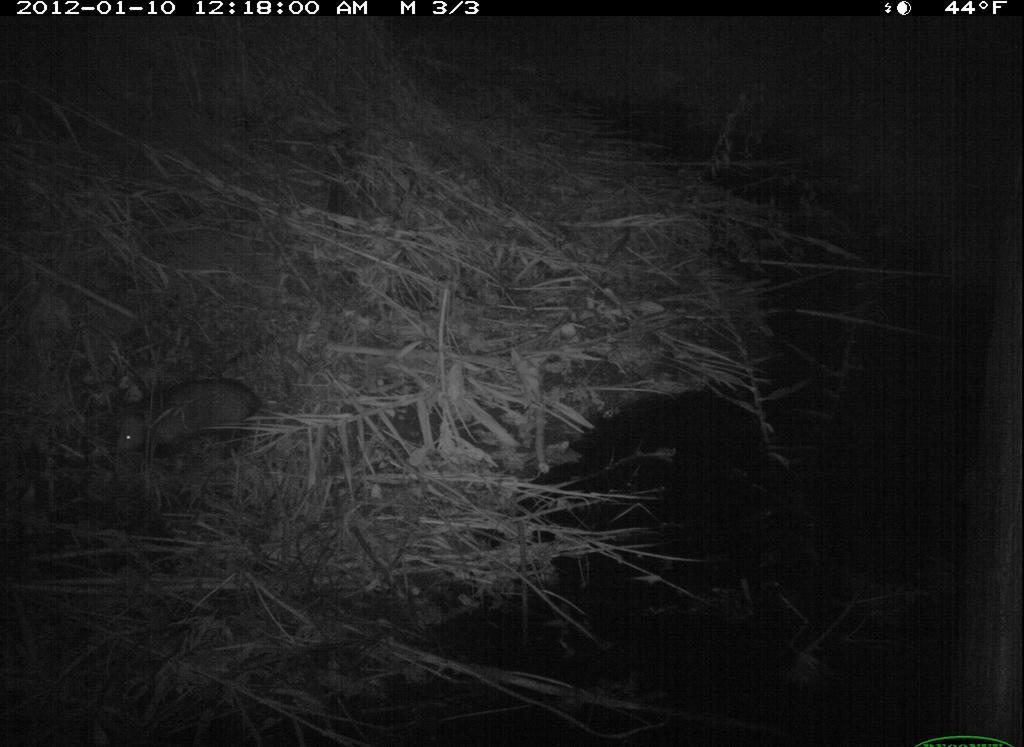opossum: (98, 354, 285, 465)
